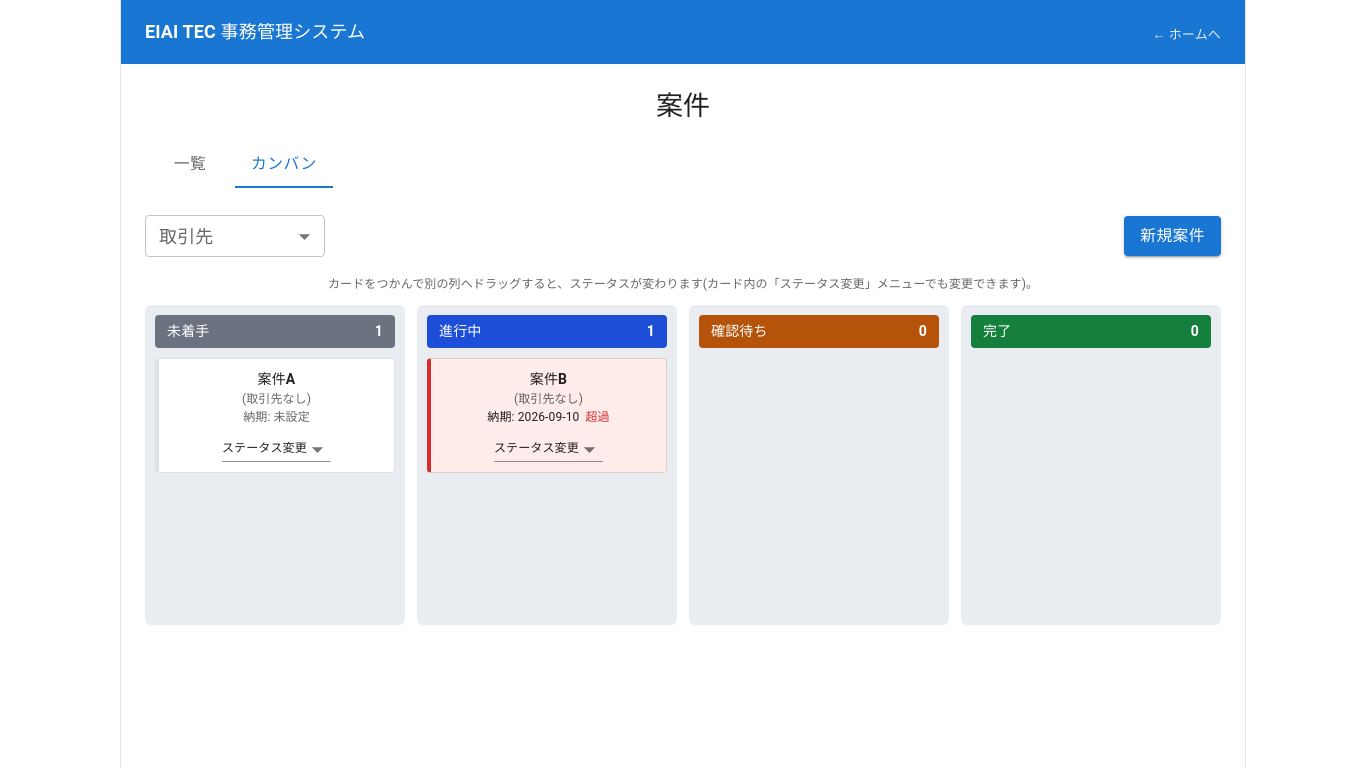
Test: ProjectKanbanPage › 変更に失敗した場合は元の列へ戻し、エラーメッセージを表示する
Expected: the text "案件A" is shown, [258,371,295,387]
Select "完了" in the dropdown named "案件Aのステータス変更" at [276, 449], box [222,436,331,462]
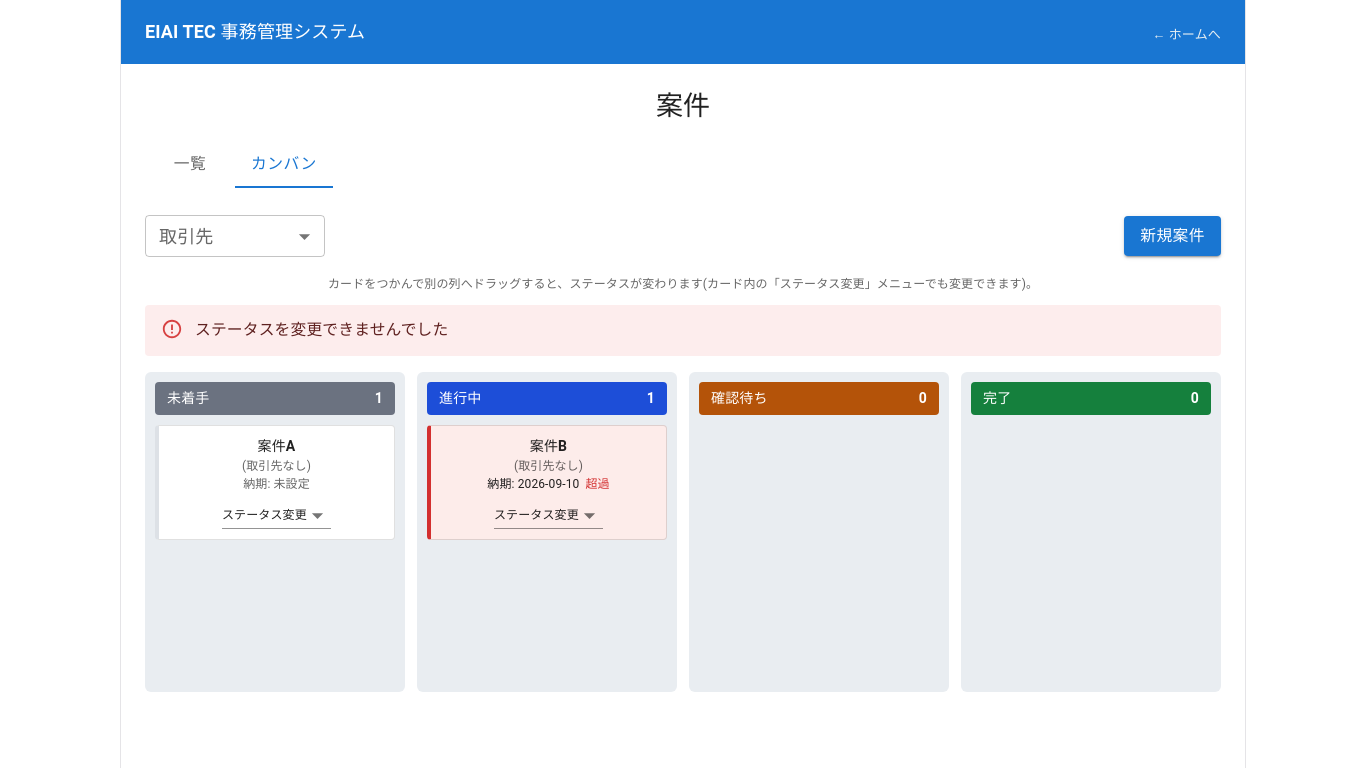
Expected: the text "案件A" is shown, [258,438,295,454]
Expected: the text "ステータスを変更できませんでした" is shown, [195,320,448,339]
